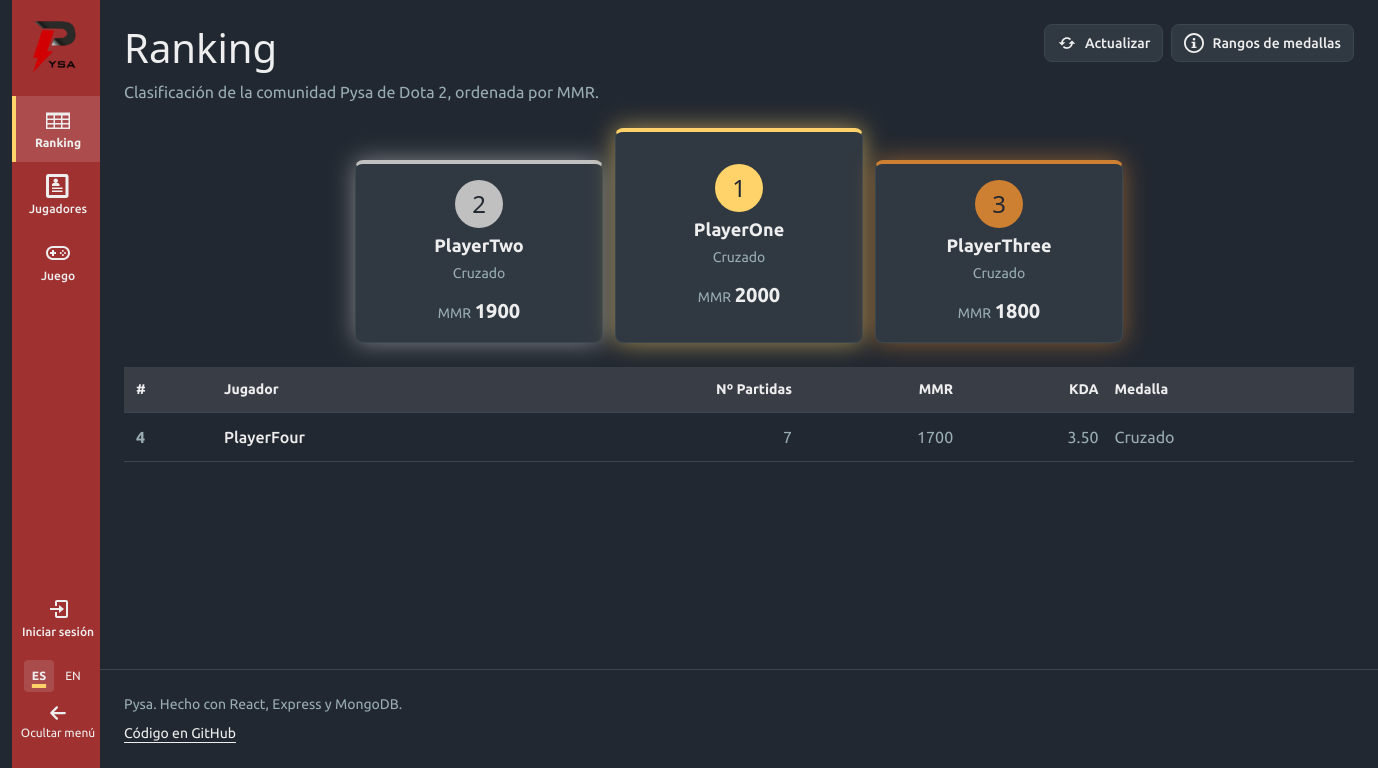
switching language re-renders the page › Spanish to English and back, without reloading the data
Expected: the text "PlayerOne" is shown, [694, 216, 784, 243]
Expected: the button "Actualizar" is shown, [1044, 24, 1163, 62]
Click the button with aria-label "English": click(73, 676) [58, 660, 88, 692]
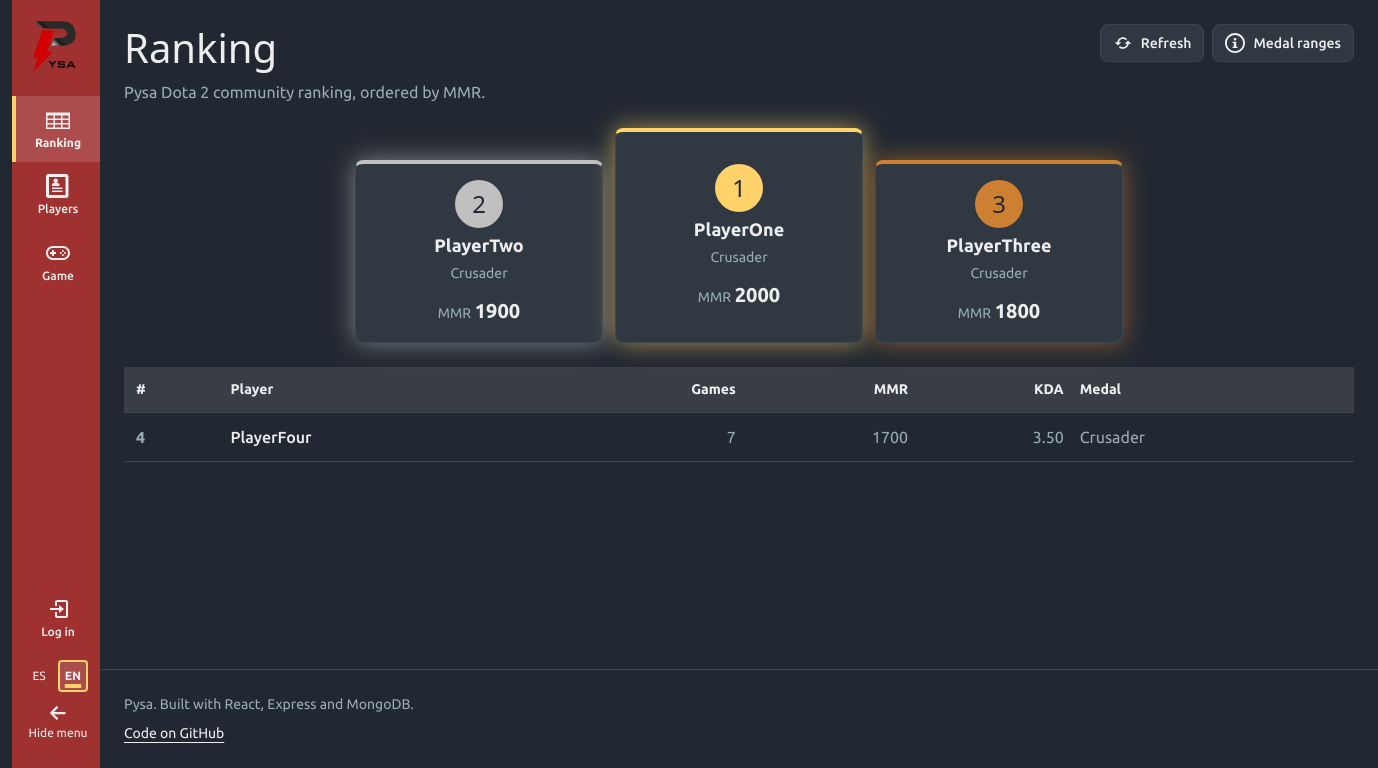
Expected: the button "Refresh" is shown, [1100, 24, 1204, 62]
Expected: the list item "1 PlayerOne Crusader MMR 2000" is shown, [615, 128, 863, 343]
Click the button with aria-label "Español": click(39, 676) [24, 660, 54, 692]
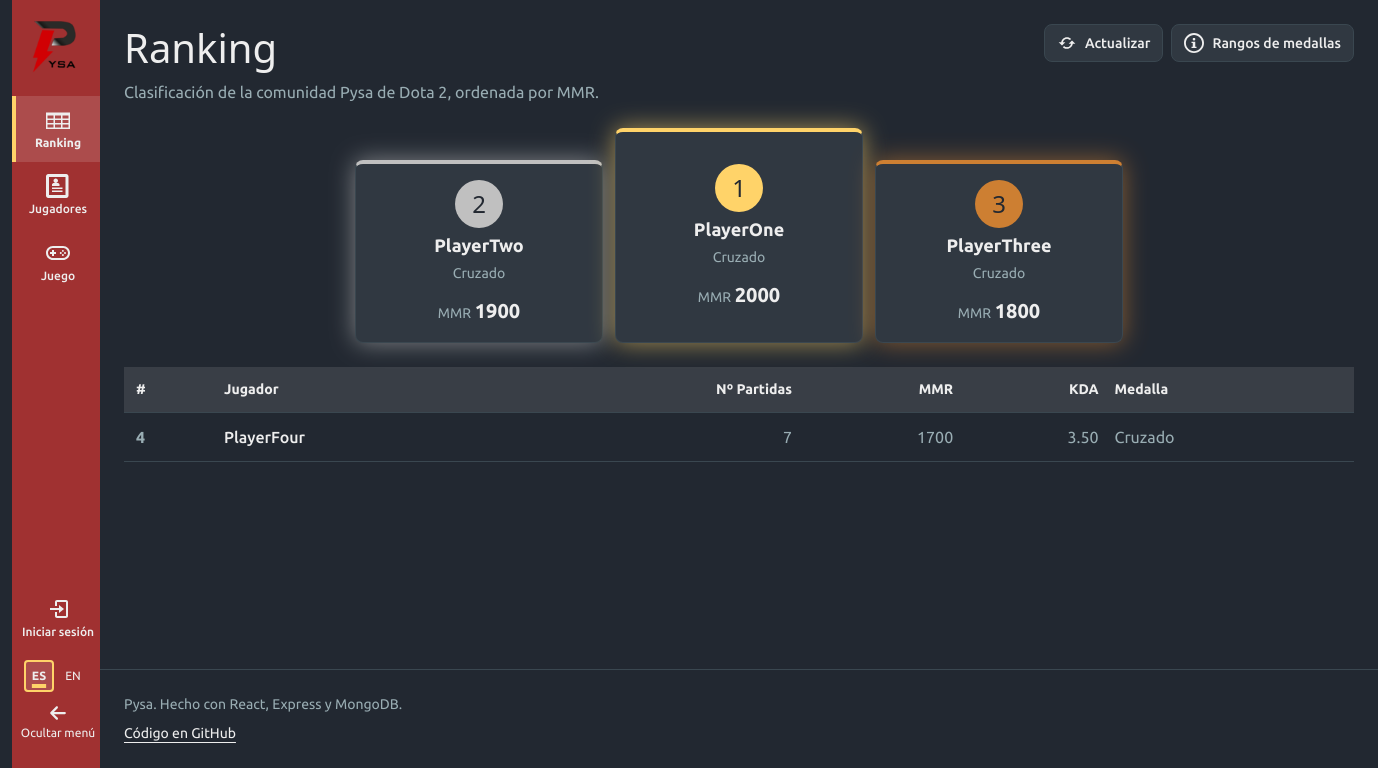
Expected: the button "Actualizar" is shown, [1044, 24, 1163, 62]
Expected: the list item "1 PlayerOne Cruzado MMR 2000" is shown, [615, 128, 863, 343]
